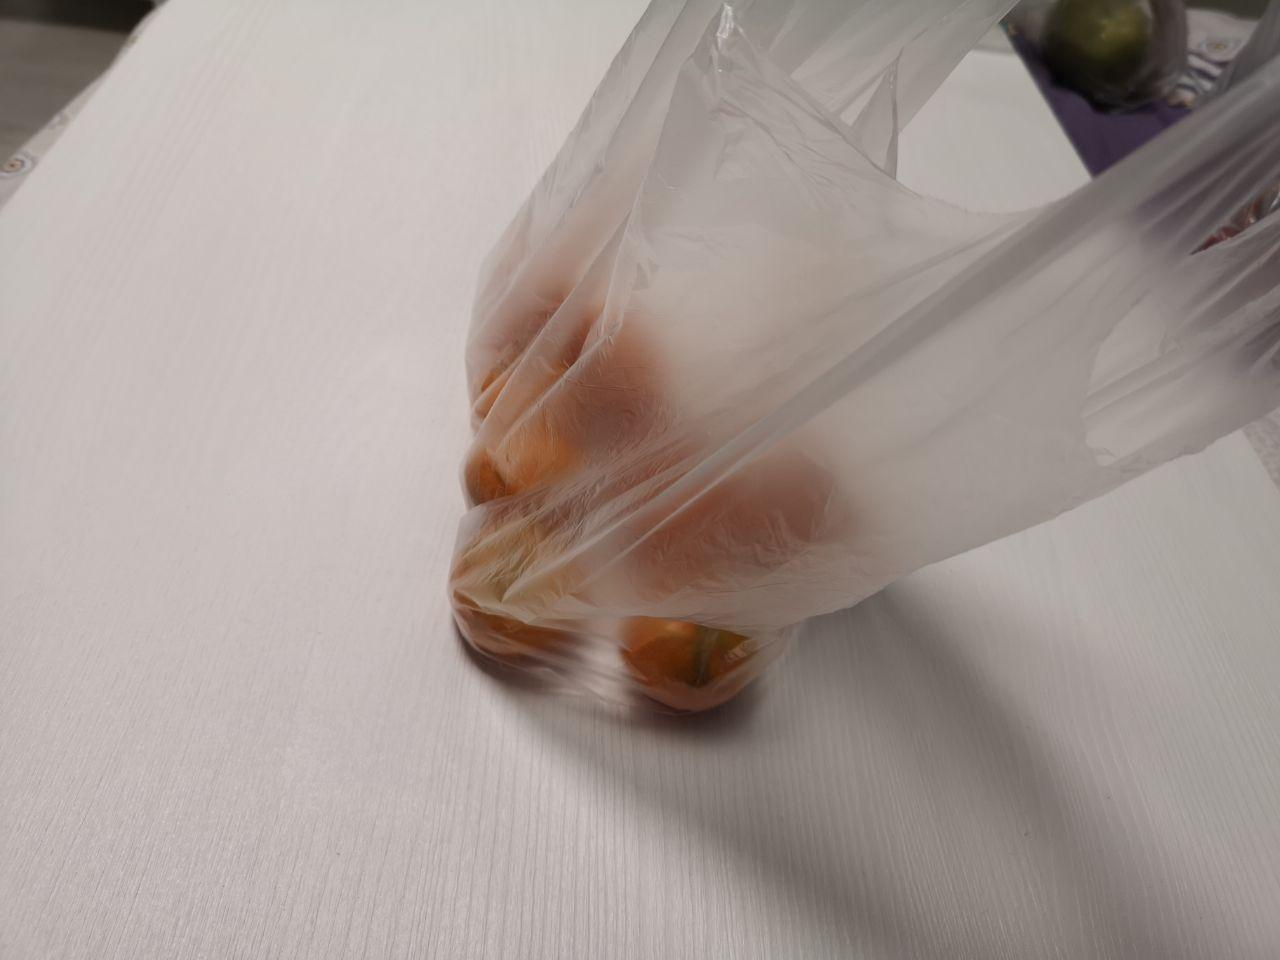clementin: (446, 240, 863, 721)
